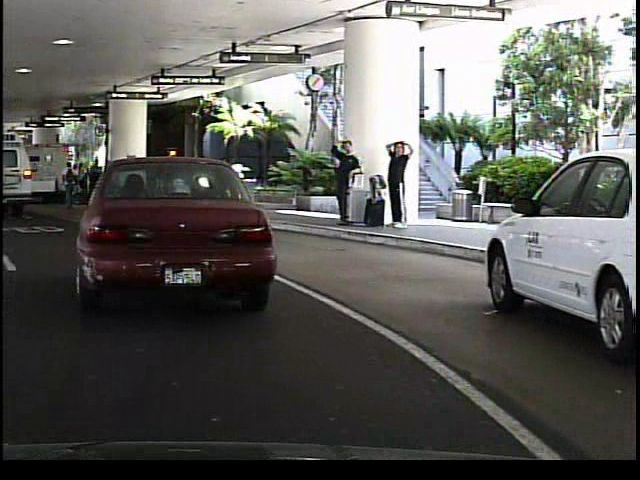person: (327, 134, 359, 226), (381, 135, 411, 231), (209, 151, 236, 216), (350, 151, 371, 221)
